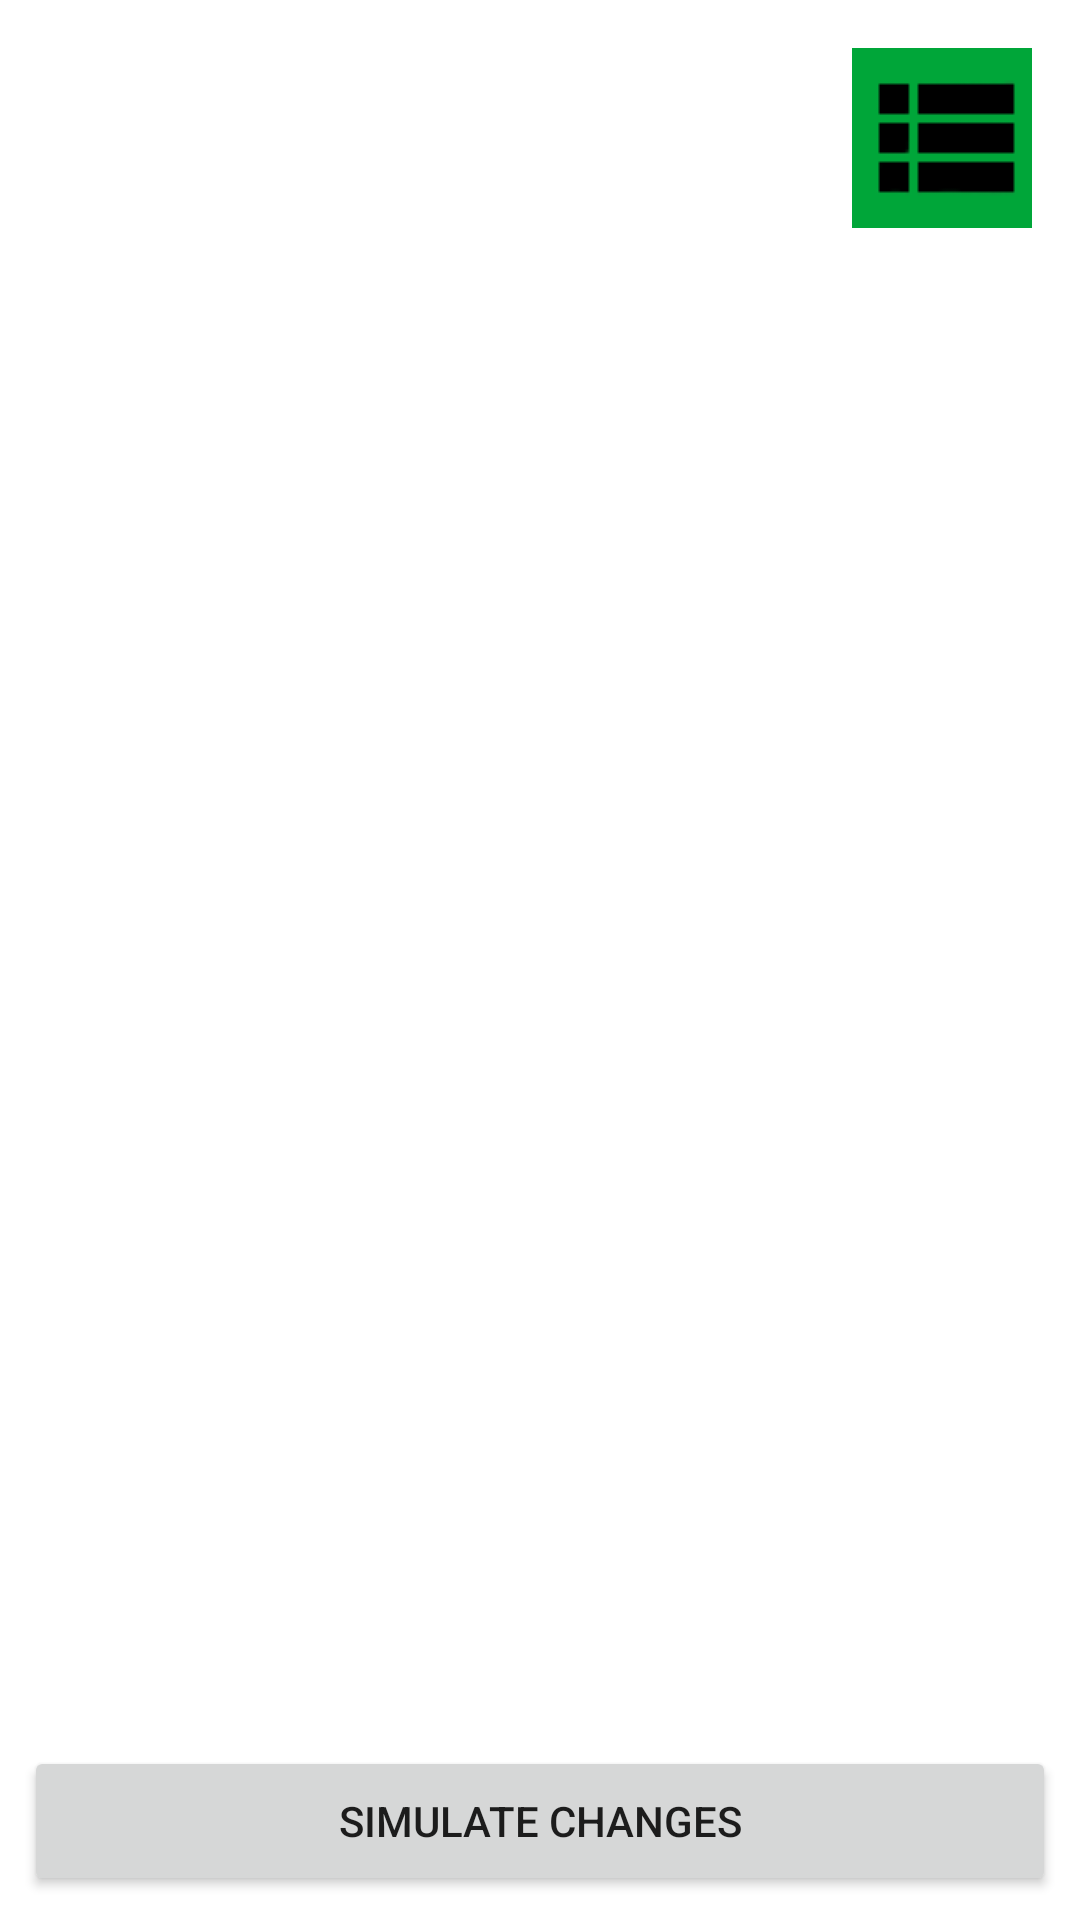

Icon bounding boxes for this 1080px x 1920px phone screenshot, format (x1, y1, x2, y2):
list: (852, 48, 1032, 228)
